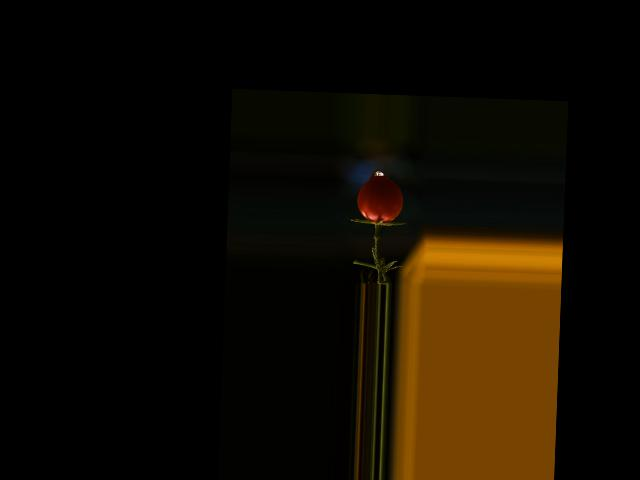tomato: (355, 176, 403, 223)
